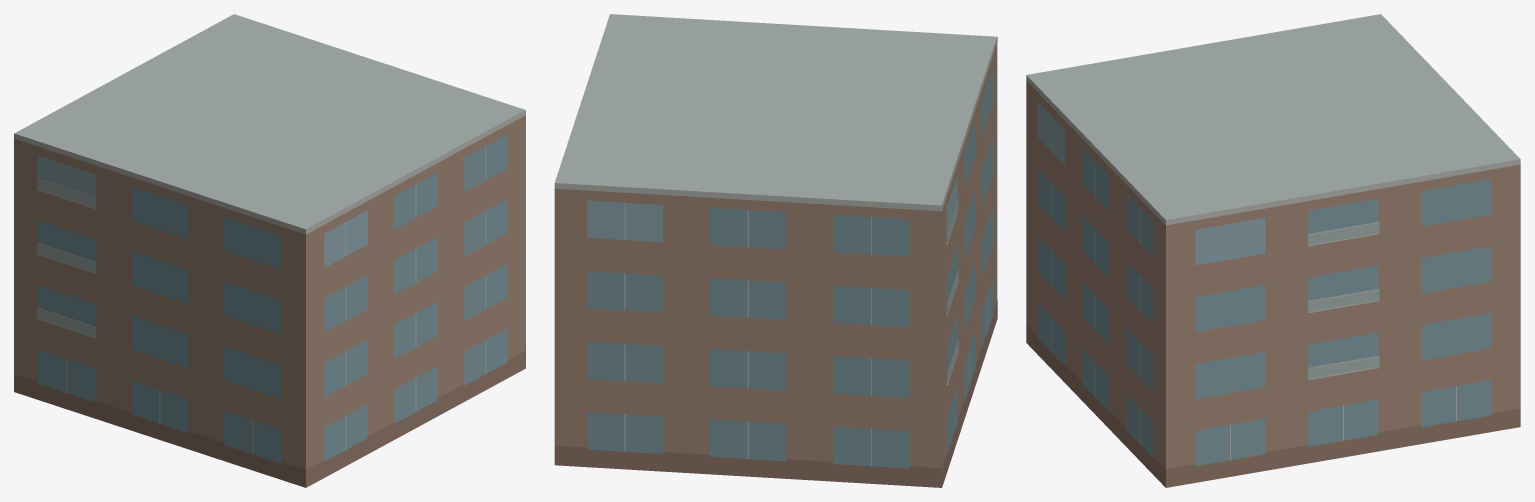
Rendered from residential-7667b92b-37bc-4356-b44c-2366ad7c2086.glb.
The picture shows the model from 3 angles, left to right: view 1: azimuth 30°, elevation 25°; view 2: azimuth 150°, elevation 25°; view 3: azimuth 270°, elevation 25°; orthographic projection. The views are drawn at different scales.
Parts seen in each view (by area): view 1: residential-7667b92b-37bc-4356-b44c-2366ad7c2086.tmp; view 2: residential-7667b92b-37bc-4356-b44c-2366ad7c2086.tmp; view 3: residential-7667b92b-37bc-4356-b44c-2366ad7c2086.tmp.
Boxes of the visible parts, box(x1,y1,x2,y2) form: residential-7667b92b-37bc-4356-b44c-2366ad7c2086.tmp: box(14, 14, 525, 487); residential-7667b92b-37bc-4356-b44c-2366ad7c2086.tmp: box(554, 14, 997, 487); residential-7667b92b-37bc-4356-b44c-2366ad7c2086.tmp: box(1026, 14, 1520, 487).
Bounding box in the file's own units: 20.16 × 12.2 × 20.43.
